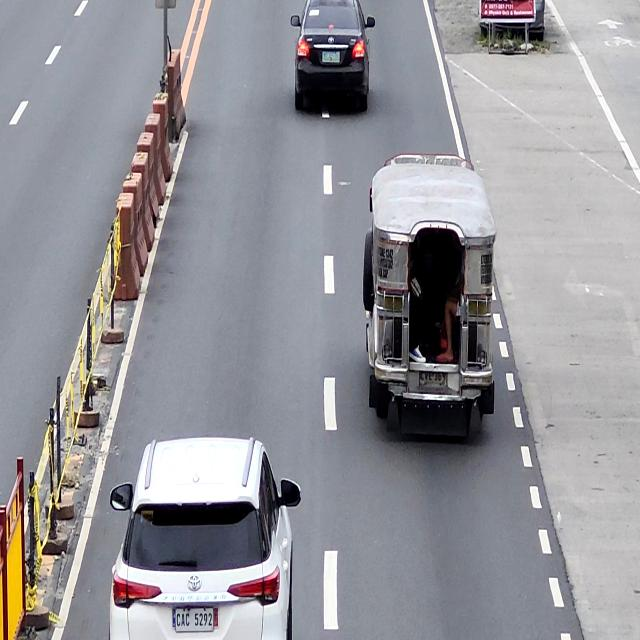Car: (109, 436, 301, 640), (290, 0, 376, 116)
Jeep: (362, 151, 497, 439)
License-Plate: (174, 607, 214, 632), (418, 371, 448, 390), (322, 49, 339, 62)
